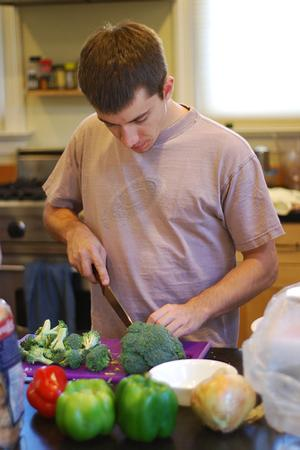person: (40, 21, 287, 349)
